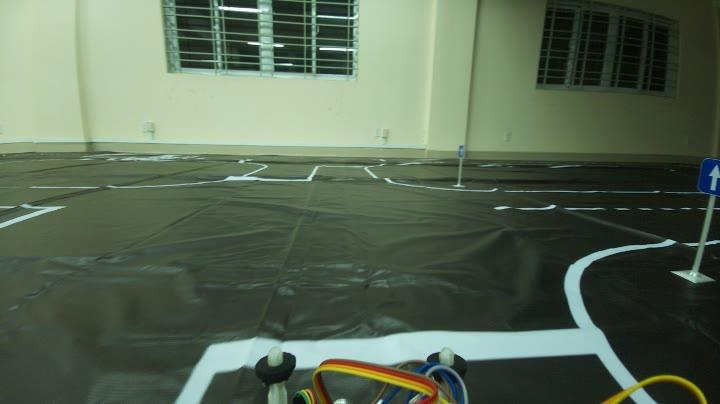onewayroad: (697, 154, 717, 193)
